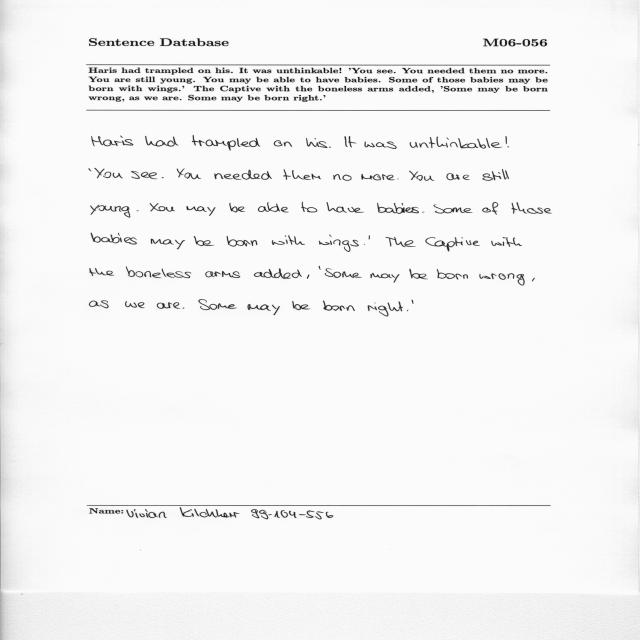word: (410, 137, 502, 149), (192, 135, 260, 151), (425, 237, 480, 252), (126, 267, 191, 279), (319, 234, 359, 252), (479, 273, 525, 286), (214, 170, 272, 180), (254, 268, 302, 279), (368, 302, 403, 317), (91, 205, 131, 218), (91, 233, 137, 244), (512, 202, 553, 214), (92, 136, 134, 147), (377, 203, 419, 214), (283, 169, 321, 180), (327, 202, 364, 213), (198, 300, 237, 310), (324, 268, 362, 278), (247, 304, 280, 315), (323, 300, 355, 311), (434, 205, 473, 214), (437, 269, 468, 280), (145, 136, 179, 146), (151, 239, 185, 249), (227, 236, 257, 247), (272, 235, 305, 245), (482, 169, 509, 181), (258, 203, 289, 213), (385, 237, 416, 247), (491, 237, 522, 247), (94, 169, 123, 179), (187, 206, 216, 216), (371, 273, 400, 283), (409, 170, 435, 181), (365, 141, 397, 149), (206, 271, 241, 278), (177, 169, 201, 179), (150, 203, 175, 212), (306, 138, 328, 148), (131, 171, 157, 179), (483, 202, 499, 215), (361, 174, 395, 180), (194, 236, 214, 246), (90, 268, 114, 276), (409, 269, 428, 279), (302, 202, 318, 213), (446, 173, 470, 180), (292, 301, 310, 310), (157, 302, 180, 309), (89, 301, 109, 309), (344, 136, 357, 148), (230, 203, 246, 212), (125, 301, 145, 308), (333, 174, 352, 181), (274, 140, 292, 147), (505, 136, 509, 147), (307, 275, 310, 279), (532, 278, 535, 282), (319, 266, 321, 270), (412, 300, 414, 304), (89, 169, 91, 172), (329, 146, 331, 148), (369, 236, 370, 240), (422, 212, 425, 213), (162, 177, 164, 178), (397, 179, 399, 180), (183, 308, 185, 309), (407, 310, 409, 311), (364, 244, 365, 245), (136, 211, 139, 211)
